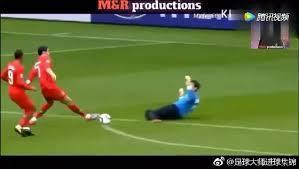Fall-Detected: (143, 68, 204, 121)
